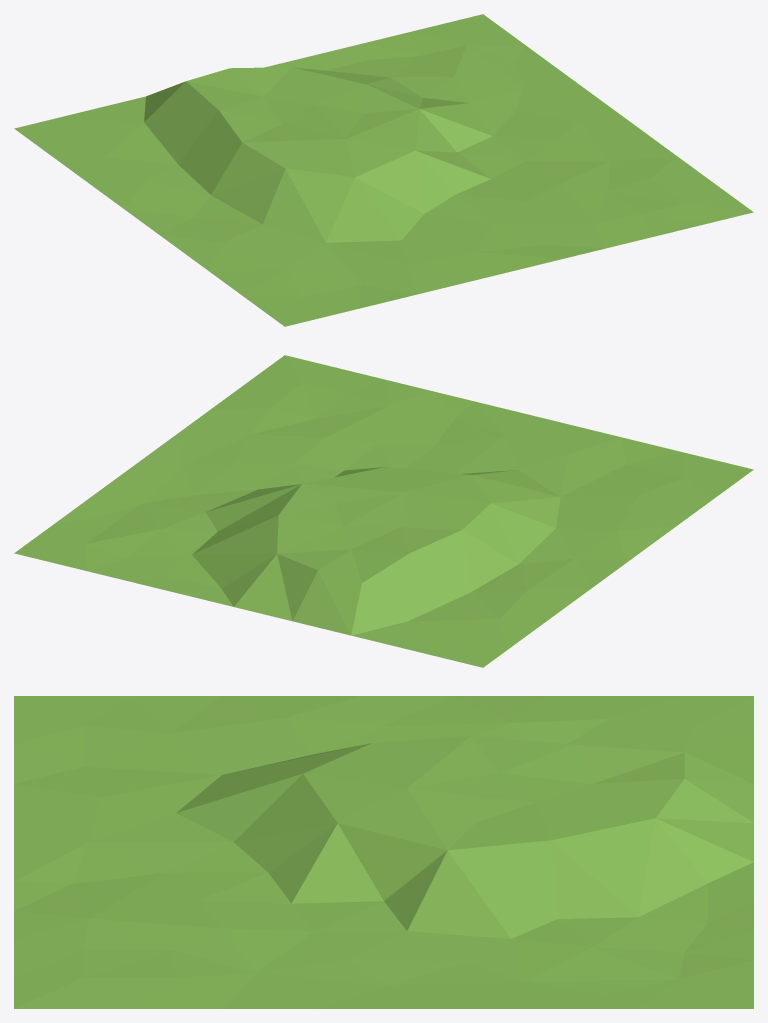
Rendered from MT_Terrain_S_c_02.fbx.
3 renders of one model, top to bottom at view 1: azimuth 30°, elevation 25°; view 2: azimuth 150°, elevation 25°; view 3: azimuth 270°, elevation 25°, orthographic. The views are drawn at different scales.
Visible parts, largest first — view 1: MT_Terrain_S_c_02; view 2: MT_Terrain_S_c_02; view 3: MT_Terrain_S_c_02.
Part boxes in pixels (x1,y1,x2,y2): MT_Terrain_S_c_02: (14, 14, 753, 326); MT_Terrain_S_c_02: (14, 355, 753, 667); MT_Terrain_S_c_02: (14, 696, 753, 1008).
Bounding box in the file's own units: 2500 × 174 × 2500.
